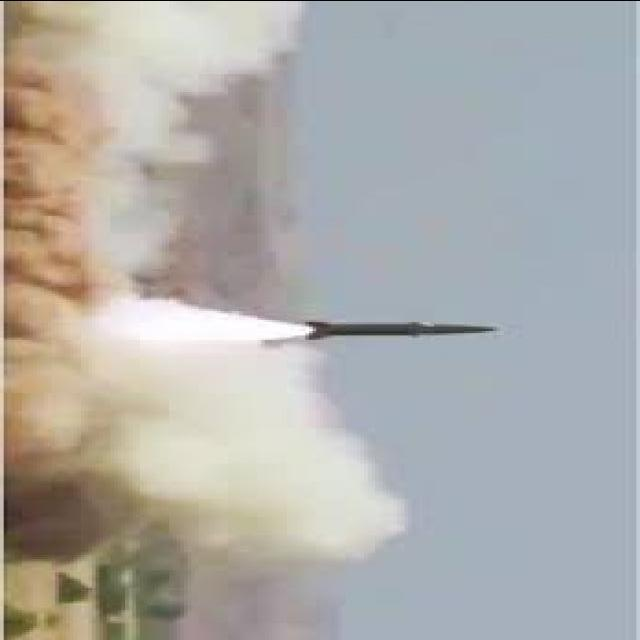Missile: (303, 319, 501, 337)
